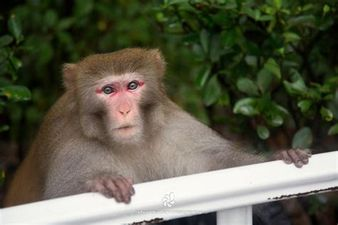monkey: (31, 34, 286, 221)
